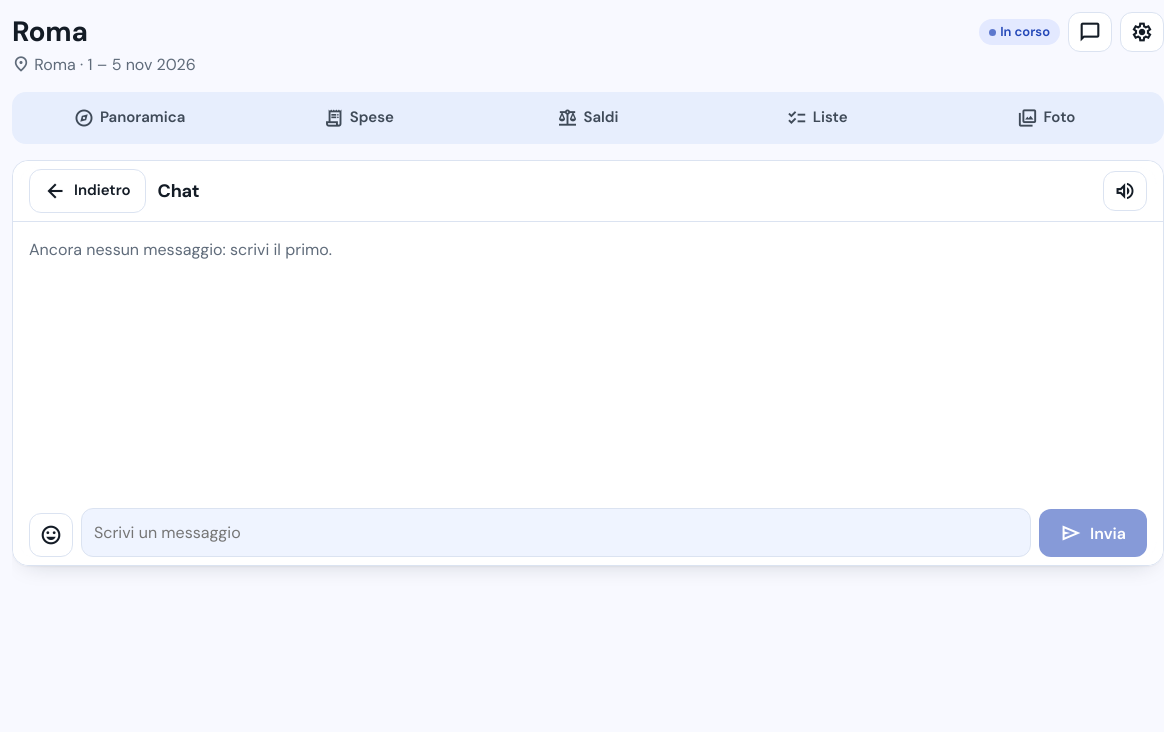
«Indietro» riporta al viaggio anche se la chat è stata aperta da un link
The width and height of the screenshot is (1164, 732).
Click the button "Indietro".
click(87, 191)  # box [29,169,146,213]
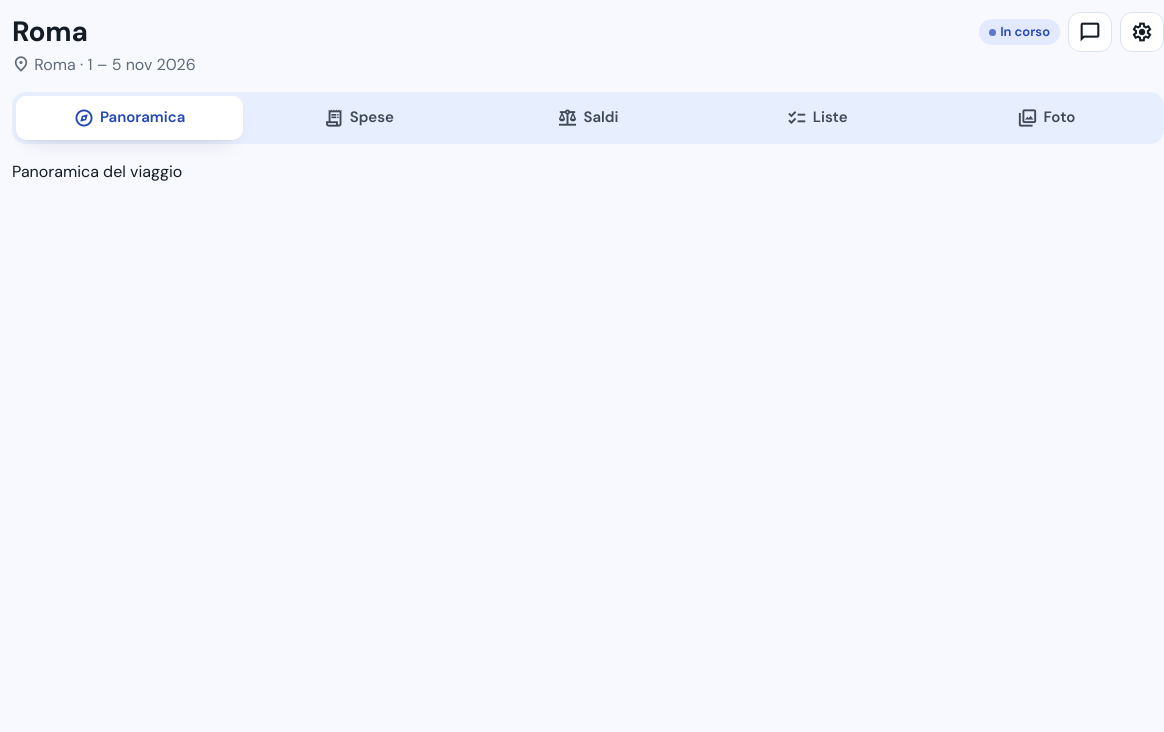
Expected: the text "Panoramica del viaggio" is shown, [12,161,182,182]
